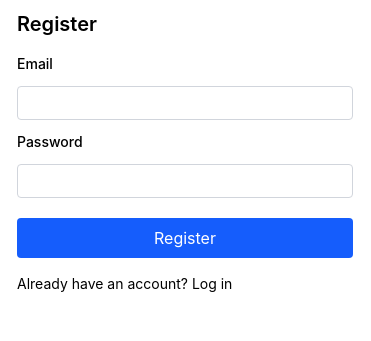
it: Register page › shows a duplicate-email error distinctly from a password-policy error
Type "alice@example.com" into the field labelled "Email" at (185, 103), box [17,86,353,120]
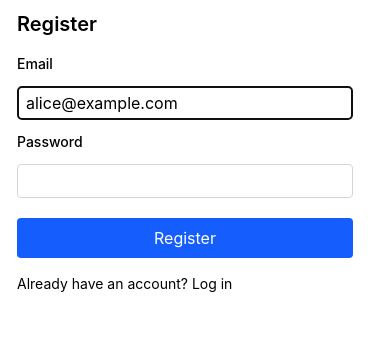
Type "Str0ngP@ssw0rd!" into the password field labelled "Password" at (185, 181), box [17,164,353,198]
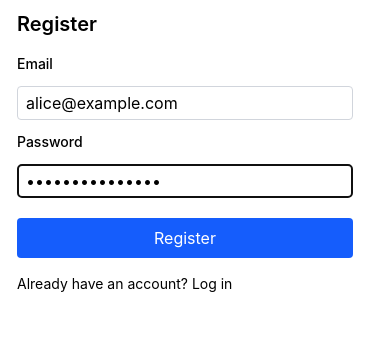
Click the button "Register" at (185, 238), box [17,218,353,258]
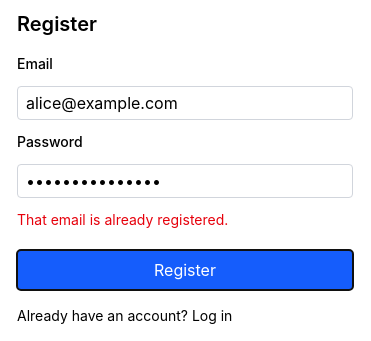
Now the text "That email is already registered." is shown, box [17,211,228,228]
